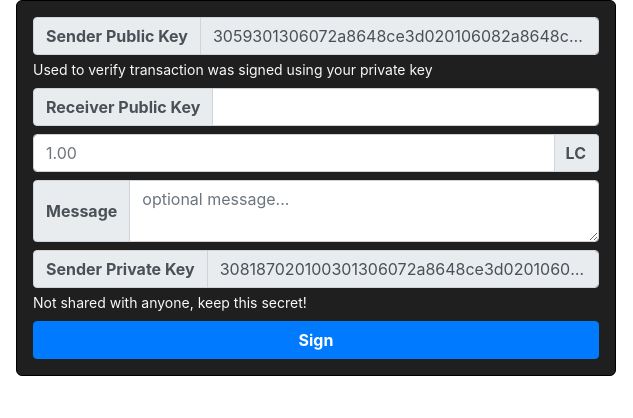
Amount checking › shows error when below minimum (0.10)
Step 1. Type "0.09" into the number field named "Sign Amount" → (294, 153), box [33, 134, 555, 172]
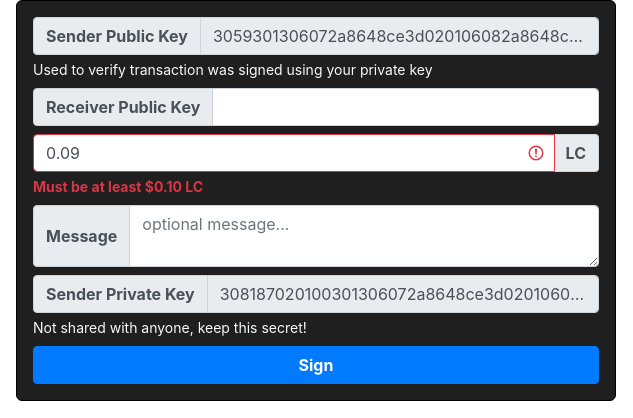
Check: the message named "Amount Feedback" reads "Must be at least $0.10 LC", box [33, 178, 203, 195]
